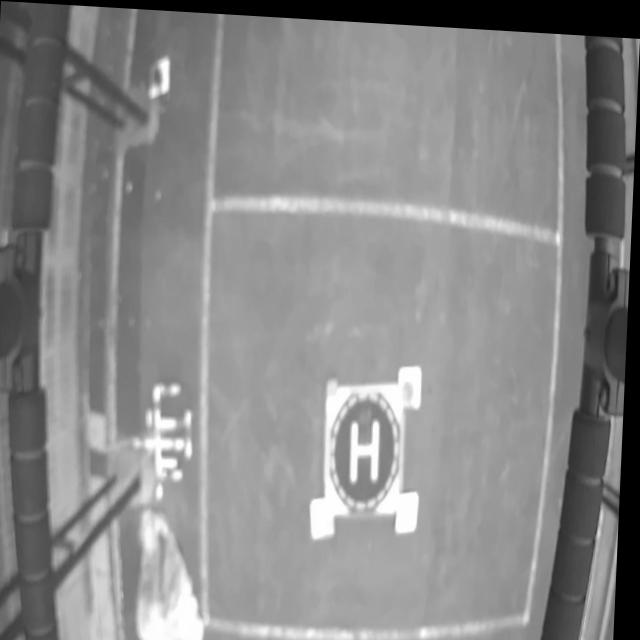Helipad: (352, 414, 383, 478)
